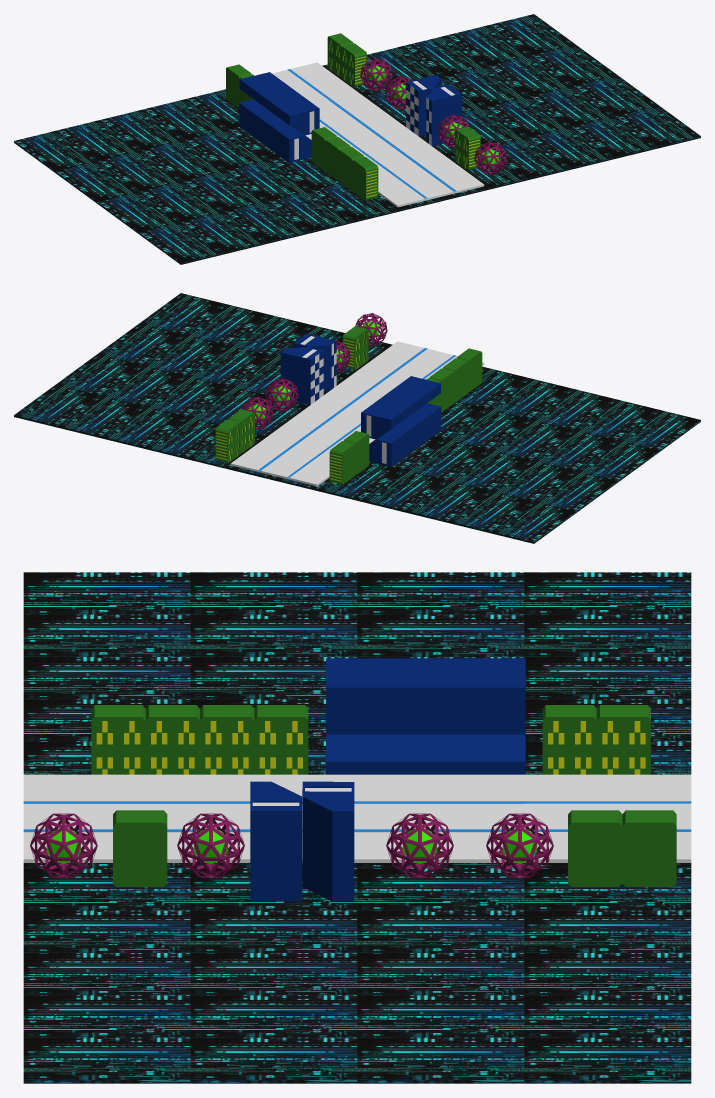
Rendered from 40LengthTileset.fbx.
3 renders of one model, top to bottom at view 1: azimuth 30°, elevation 25°; view 2: azimuth 150°, elevation 25°; view 3: azimuth 270°, elevation 25°, orthographic. The views are drawn at different scales.
Visible parts, largest first — view 1: Cube.021, Cube.037, Cube.040, Cube.013, Cube.028, Cube.030, Cube.034, Cube.036, Cube.038, Cube.039, Cube.020, Cube.032 (+45 smaller); view 2: Cube.021, Cube.101, Cube.020, Cube.019, Cube.022, Cube.023, Cube.024, Cube.047, Cube.049, Cube.039, Cube.038, Cube.037 (+45 smaller); view 3: Cube.021, Cube.040, Cube.042, Cube.019, Cube.041, Cube.098, Cube.099, Cube.031, Cube.033, Cube.034, Cube.037, Cube.038 (+44 smaller).
Part boxes in pixels (x1,y1,x2,y2): Cube.021: (272, 62, 484, 207); Cube.037: (139, 222, 224, 264); Cube.040: (616, 105, 700, 148); Cube.013: (269, 190, 354, 232); Cube.028: (226, 201, 310, 243); Cube.030: (183, 211, 267, 254); Cube.034: (573, 116, 657, 158); Cube.036: (529, 127, 614, 169); Cube.038: (55, 161, 140, 203); Cube.039: (97, 191, 181, 233); Cube.020: (14, 130, 98, 172); Cube.032: (488, 96, 572, 137); Cube.021: (230, 341, 484, 486); Cube.101: (280, 346, 323, 404); Cube.020: (490, 501, 575, 543); Cube.019: (14, 384, 98, 427); Cube.022: (100, 406, 185, 448); Cube.023: (57, 395, 141, 437); Cube.024: (447, 490, 531, 533); Cube.047: (404, 480, 488, 522); Cube.049: (360, 469, 445, 511); Cube.039: (574, 440, 659, 482); Cube.038: (533, 470, 617, 512); Cube.037: (616, 409, 700, 451); Cube.021: (23, 774, 691, 862); Cube.040: (23, 1037, 190, 1083); Cube.042: (357, 1037, 524, 1083); Cube.019: (524, 1037, 691, 1083); Cube.041: (190, 1037, 357, 1083); Cube.098: (425, 658, 525, 734); Cube.099: (326, 658, 425, 734); Cube.031: (357, 995, 524, 1037); Cube.033: (190, 995, 357, 1037); Cube.034: (23, 995, 190, 1037); Cube.037: (23, 572, 190, 614); Cube.038: (357, 572, 524, 614).
Size of the model in its own units: 144 by 80 by 12.9.
